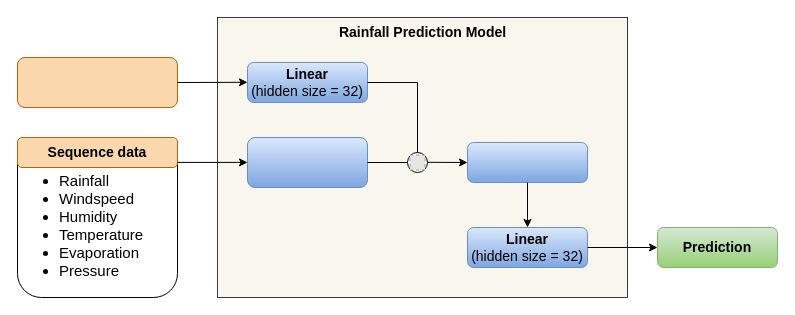
Image size: 795x315. Some labels were removed from this diagram. Grey dashed boxes stand in for pictures. The centre of each missing label's shape, as x and y in pixels:
Linear (hidden size = 64): [527,162]
LSTM (hidden size = 32): [307,162]
One-hot Encoded Predicting Month: [97,82]
